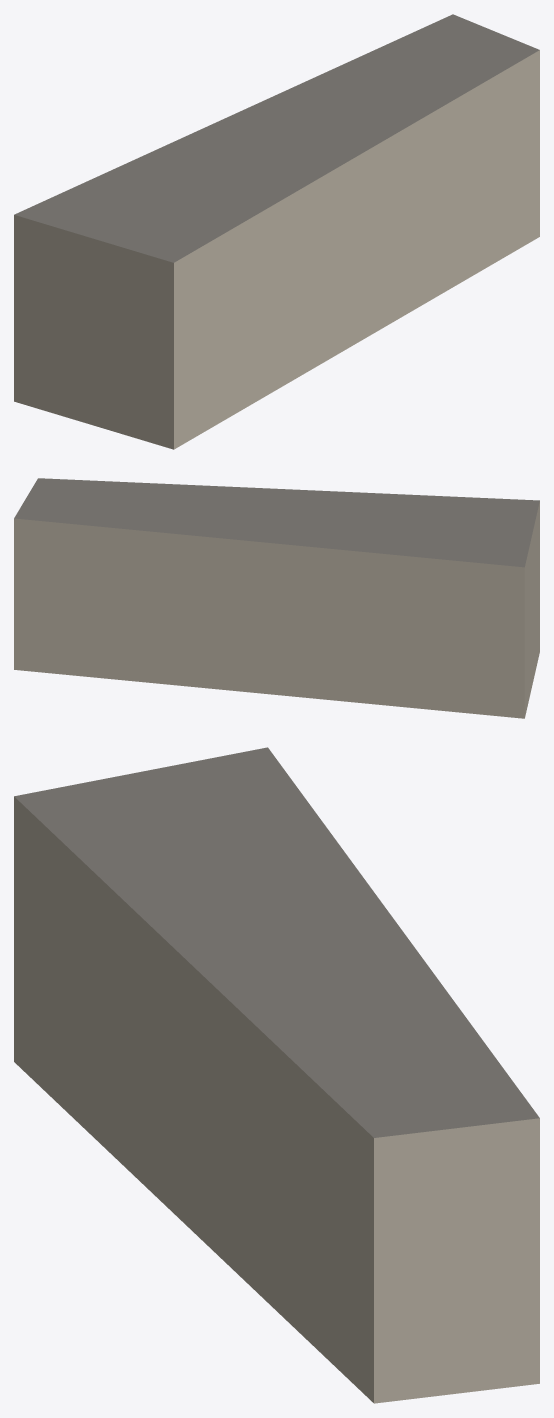
3 renders of one model, top to bottom at view 1: azimuth 30°, elevation 25°; view 2: azimuth 150°, elevation 25°; view 3: azimuth 270°, elevation 25°, orthographic. The views are drawn at different scales.
Visible parts, largest first — view 1: HP-w505661372; view 2: HP-w505661372; view 3: HP-w505661372.
Part boxes in pixels (x1,y1,x2,y2): HP-w505661372: (14,14,539,449); HP-w505661372: (14,478,539,718); HP-w505661372: (14,747,539,1403).
Size of the model in its own units: 37.87 by 12 by 21.54.
